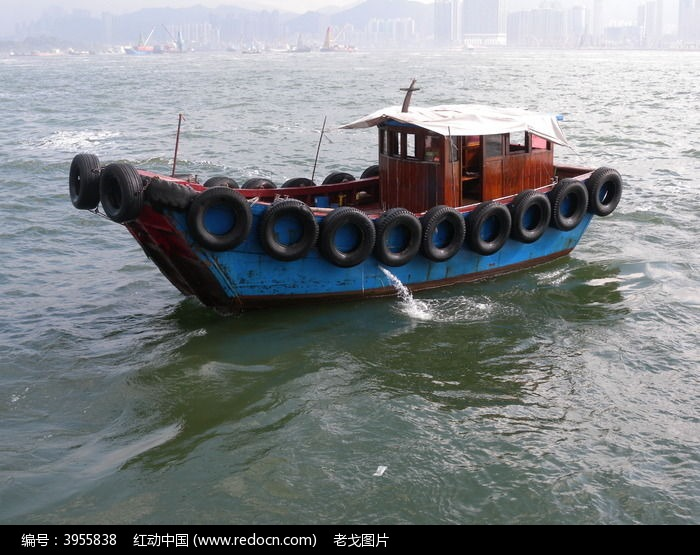otherboat: (55, 83, 622, 316)
